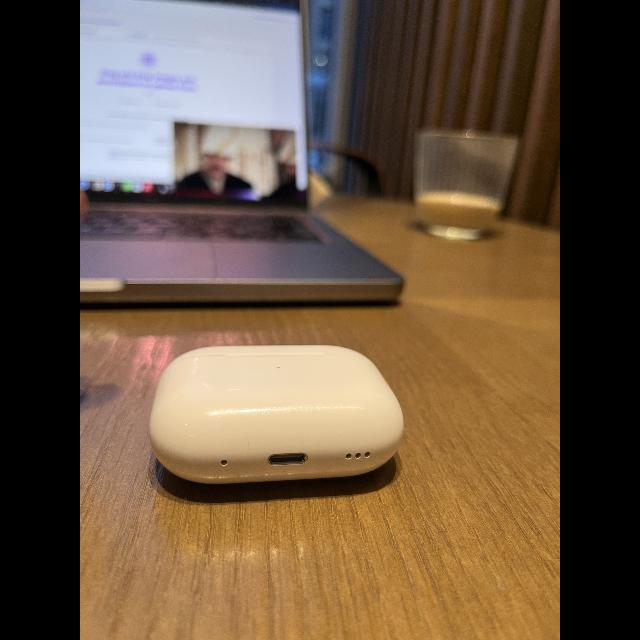AirPods Pro: (142, 339, 410, 509)
